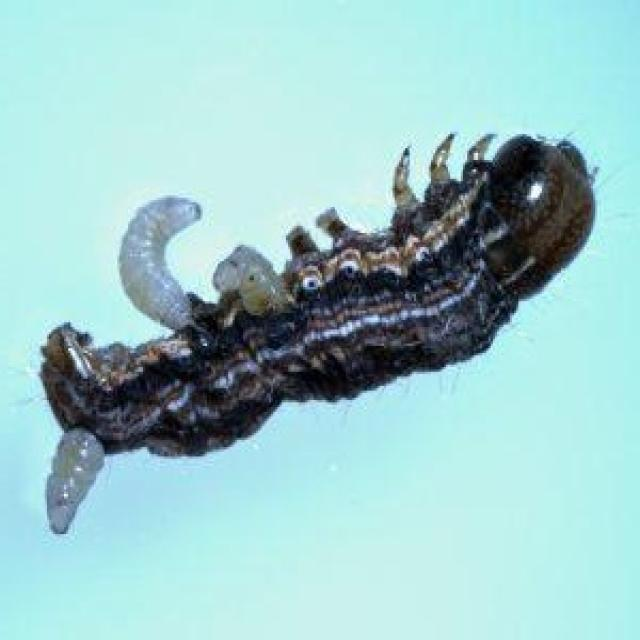army worm: (28, 132, 610, 539)
